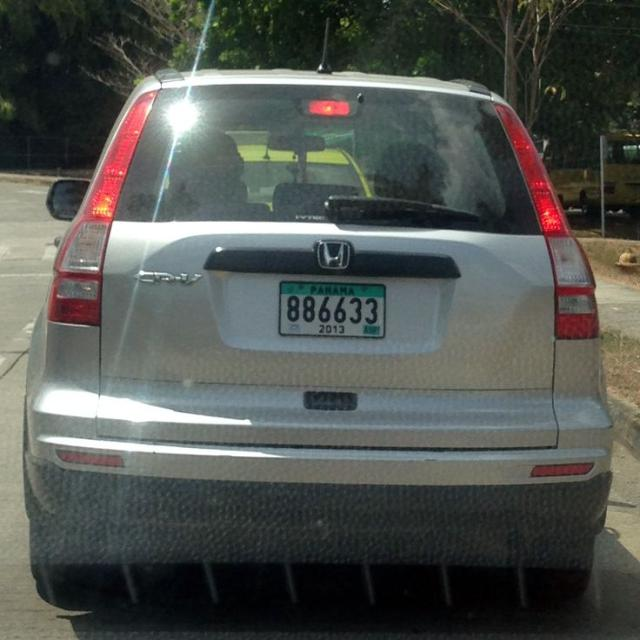Placas: (276, 278, 386, 342)
